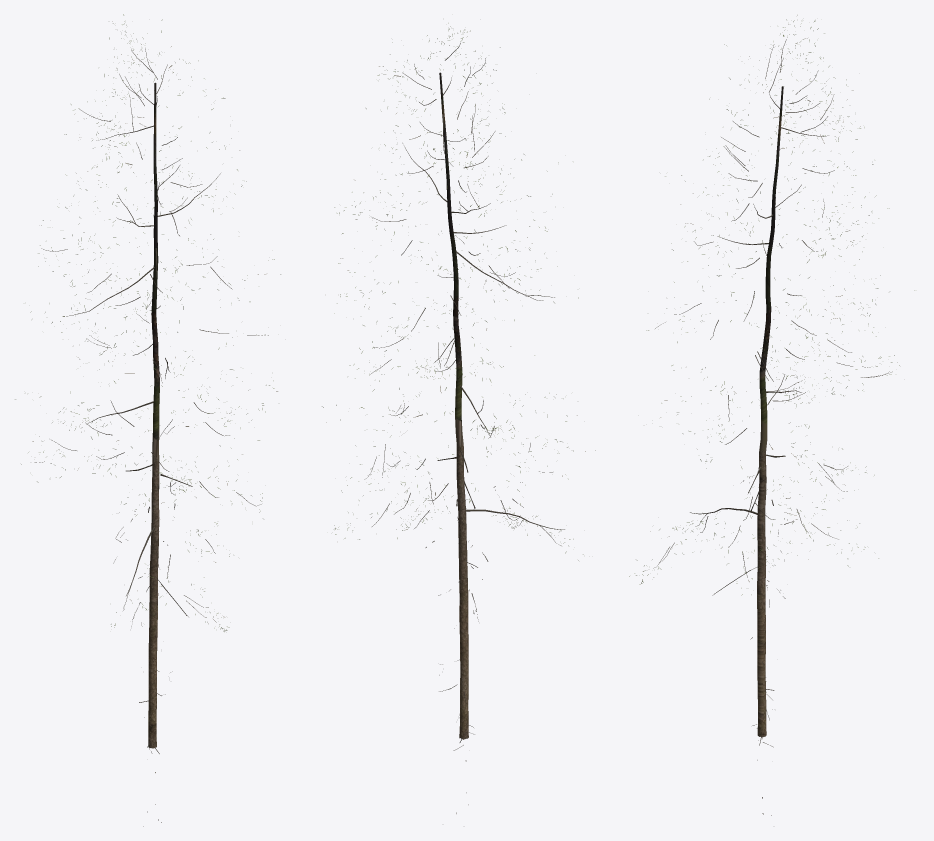
The model's file is fir_tree_01_source_candidate_lod1.glb.
The picture shows the model from 3 angles, left to right: view 1: azimuth 30°, elevation 25°; view 2: azimuth 150°, elevation 25°; view 3: azimuth 270°, elevation 25°; orthographic projection. The views are drawn at different scales.
Parts seen in each view (by area): view 1: fir_tree_01_source_candidate_lod1; view 2: fir_tree_01_source_candidate_lod1; view 3: fir_tree_01_source_candidate_lod1.
Part boxes in pixels (x1,y1,x2,y2): fir_tree_01_source_candidate_lod1: (15, 14, 280, 826); fir_tree_01_source_candidate_lod1: (322, 23, 595, 813); fir_tree_01_source_candidate_lod1: (629, 15, 914, 815).
Bounding box in the file's own units: 6.28 × 18.66 × 6.23.
Materials: 4 (4 with a texture image).
